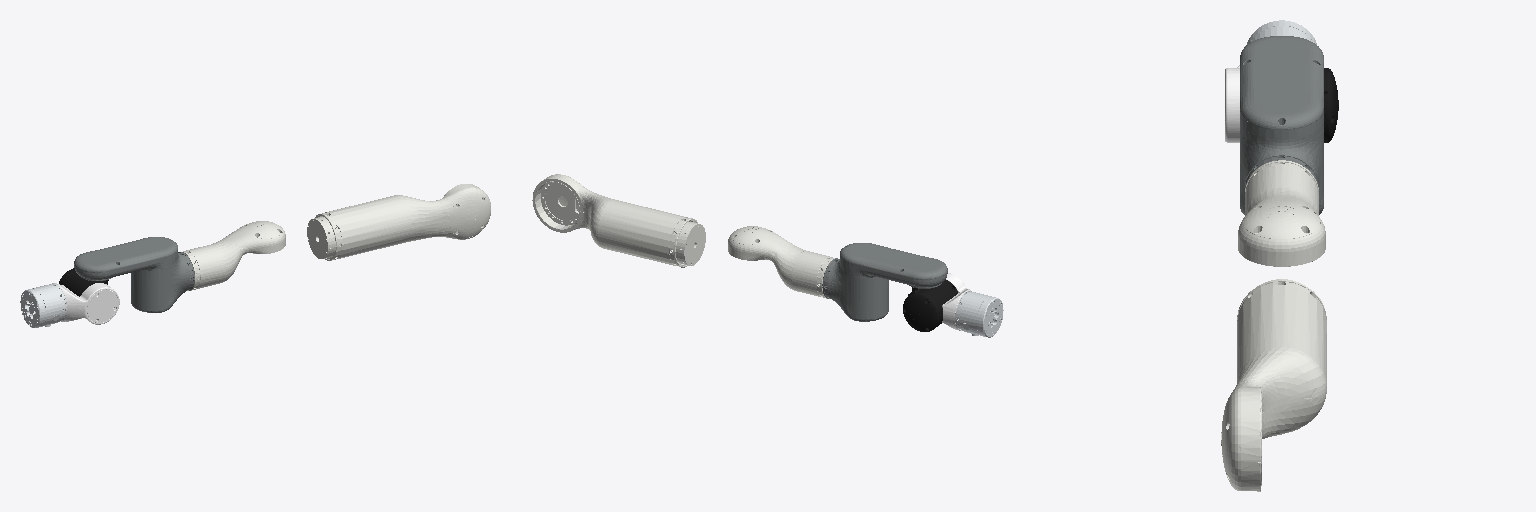
The robot description file, URDF, robot "RXR-6FB":
<?xml version="1.0" encoding="utf-8"?>
<!-- This URDF was automatically created by SolidWorks to URDF Exporter! Originally created by Stephen Brawner (brawner@gmail.com) 
     Commit Version: 1.6.0-4-g7f85cfe  Build Version: 1.6.7995.38578
     For more information, please see http://wiki.ros.org/sw_urdf_exporter -->
<robot
  name="RXR-6FB">
  <link
    name="base_link">
    <inertial>
      <origin
        xyz="-0.001567 0.000482 0.057387"
        rpy="0 0 0" />
      <mass
        value="1.360" />
      <inertia
        ixx="0.001538061"
        ixy="5.117e-06"
        ixz="-1.0816e-05"
        iyy="0.0015157"
        iyz="2.6121e-05"
        izz="0.001161949" />
    </inertial>
    <visual>
      <origin
        xyz="0 0 0"
        rpy="0 0 0" />
      <geometry>
        <mesh
          filename="package://rm_description/meshes/rm_rx75_arm/rm_rx75_right_arm/base_link.STL" />
      </geometry>
      <material
        name="">
        <color
          rgba="0.792156862745098 0.819607843137255 0.933333333333333 1" />
      </material>
    </visual>
    <collision>
      <origin
        xyz="0 0 0"
        rpy="0 0 0" />
      <geometry>
        <mesh
          filename="package://rm_description/meshes/rm_rx75_arm/rm_rx75_right_arm/base_link.STL" />
      </geometry>
    </collision>
  </link>
  <link
    name="Link1">
    <inertial>
      <origin
        xyz="1.8e-05 -0.01367 -0.0101"
        rpy="0 0 0" />
      <mass
        value="1.559" />
      <inertia
        ixx="0.002693824"
        ixy="-2.93e-07"
        ixz="2.442e-06"
        iyy="0.002324503"
        iyz="0.000193031"
        izz="0.001662437" />
    </inertial>
    <visual>
      <origin
        xyz="0 0 0"
        rpy="0 0 0" />
      <geometry>
        <mesh
          filename="package://rm_description/meshes/rm_rx75_arm/rm_rx75_right_arm/Link1.STL" />
      </geometry>
      <material
        name="">
        <color
          rgba="0.925490196078431 0.925490196078431 0.905882352941176 1" />
      </material>
    </visual>
    <collision>
      <origin
        xyz="0 0 0"
        rpy="0 0 0" />
      <geometry>
        <mesh
          filename="package://rm_description/meshes/rm_rx75_arm/rm_rx75_right_arm/Link1.STL" />
      </geometry>
    </collision>
  </link>
  <joint
    name="J1"
    type="revolute">
    <origin
      xyz="0 0 0.1915"
      rpy="0 0 0" />
    <parent
      link="base_link" />
    <child
      link="Link1" />
    <axis
      xyz="0 0 1" />
    <limit
      lower="-3.0194"
      upper="3.0194"
      effort="60"
      velocity="3.14" />
  </joint>
  <link
    name="Link2">
    <inertial>
      <origin
        xyz="-0.000196451722712666 0.149264015065473 0.00390445172268547"
        rpy="0 0 0" />
      <mass
        value="1.384" />
      <inertia
        ixx="0.00672698901175083"
        ixy="1.58904982968933e-06"
        ixz="-4.66624876221676e-06"
        iyy="0.0010281485024749"
        iyz="0.000750611770186407"
        izz="0.00667798848577427" />
    </inertial>
    <visual>
      <origin
        xyz="0 0 0"
        rpy="3.1415889803847 -1.34923183736646e-11 -3.67320509964131e-06" />
      <geometry>
        <mesh
          filename="package://rm_description/meshes/rm_rx75_arm/rm_rx75_right_arm/Link2.STL" />
      </geometry>
      <material
        name="">
        <color
          rgba="0.92549 0.92549 0.90588 1" />
      </material>
    </visual>
    <collision>
      <origin
        xyz="0 0 0"
        rpy="3.1415889803847 -1.34923183736646e-11 -3.67320509964131e-06" />
      <geometry>
        <mesh
          filename="package://rm_description/meshes/rm_rx75_arm/rm_rx75_right_arm/Link2.STL" />
      </geometry>
    </collision>
  </link>
  <joint
    name="J2"
    type="revolute">
    <origin
      xyz="0 0 0"
      rpy="-1.57079265353021 -1.57079265358979 3.14159265353021" />
    <parent
      link="Link1" />
    <child
      link="Link2" />
    <axis
      xyz="0 3.67320509661595e-06 0.999999999993254" />
    <limit
      lower="-3.1067"
      upper="0.6109"
      effort="60"
      velocity="3.14" />
  </joint>
  <link
    name="Link3">
    <inertial>
      <origin
        xyz="0.000153958709711768 -0.0156520412903928 0.0112409430725158"
        rpy="0 0 0" />
      <mass
        value="1.117" />
      <inertia
        ixx="0.00175636000295002"
        ixy="4.25741288365422e-06"
        ixz="-4.00133486477096e-07"
        iyy="0.0014680968228134"
        iyz="-0.000112001192338527"
        izz="0.000980232174236586" />
    </inertial>
    <visual>
      <origin
        xyz="0 0 0"
        rpy="3.1415889803847 3.67320509675473e-06 -3.14159265358979" />
      <geometry>
        <mesh
          filename="package://rm_description/meshes/rm_rx75_arm/rm_rx75_right_arm/Link3.STL" />
      </geometry>
      <material
        name="">
        <color
          rgba="0.925490196078431 0.925490196078431 0.905882352941176 1" />
      </material>
    </visual>
    <collision>
      <origin
        xyz="0 0 0"
        rpy="3.1415889803847 3.67320509675473e-06 -3.14159265358979" />
      <geometry>
        <mesh
          filename="package://rm_description/meshes/rm_rx75_arm/rm_rx75_right_arm/Link3.STL" />
      </geometry>
    </collision>
  </link>
  <joint
    name="J3"
    type="revolute">
    <origin
      xyz="1.18277204211131e-06 0.321999999995655 -1.18277204108352e-06"
      rpy="1.5707963267949 1.5707963267949 0" />
    <parent
      link="Link2" />
    <child
      link="Link3" />
    <axis
      xyz="-3.67320509653267e-06 -3.67320509250814e-06 0.999999999986507" />
    <limit
      lower="-3.0194"
      upper="3.0194"
      effort="30"
      velocity="3.925" />
  </joint>
  <link
    name="Link4">
    <inertial>
      <origin
        xyz="3.17868089891588e-07 -0.0865369837963248 -0.00441131786811871"
        rpy="0 0 0" />
      <mass
        value="0.665" />
      <inertia
        ixx="0.00120941599916537"
        ixy="1.15222126355507e-07"
        ixz="-7.75367499186827e-09"
        iyy="0.000332225492650261"
        iyz="0.000205293843090025"
        izz="0.00119166250818437" />
    </inertial>
    <visual>
      <origin
        xyz="0 0 0"
        rpy="-3.67320508520841e-06 0 -3.1415889803847" />
      <geometry>
        <mesh
          filename="package://rm_description/meshes/rm_rx75_arm/rm_rx75_right_arm/Link4.STL" />
      </geometry>
      <material
        name="">
        <color
          rgba="0.925490196078431 0.925490196078431 0.905882352941176 1" />
      </material>
    </visual>
    <collision>
      <origin
        xyz="0 0 0"
        rpy="-3.67320508520841e-06 0 -3.1415889803847" />
      <geometry>
        <mesh
          filename="package://rm_description/meshes/rm_rx75_arm/rm_rx75_right_arm/Link4.STL" />
      </geometry>
    </collision>
  </link>
  <joint
    name="J4"
    type="revolute">
    <origin
      xyz="0 0 0"
      rpy="1.5707963267949 0 0" />
    <parent
      link="Link3" />
    <child
      link="Link4" />
    <axis
      xyz="1.34996735616453e-11 -3.6732050852084e-06 0.999999999993254" />
    <limit
      lower="-2.2689"
      upper="0.2618"
      effort="30"
      velocity="3.925" />
  </joint>
  <link
    name="Link5">
    <inertial>
      <origin
        xyz="-2.96159706289828e-07 0.0147387038403936 0.080627054138282"
        rpy="0 0 0" />
      <mass
        value="1.13" />
      <inertia
        ixx="0.00234306899987292"
        ixy="-4.96297683894518e-08"
        ixz="1.95964568946707e-08"
        iyy="0.00193437374058478"
        iyz="0.000443676095244364"
        izz="0.0010916732595423" />
    </inertial>
    <visual>
      <origin
        xyz="0 0 0"
        rpy="3.1415889803847 3.67320509675473e-06 -3.14159265358979" />
      <geometry>
        <mesh
          filename="package://rm_description/meshes/rm_rx75_arm/rm_rx75_right_arm/Link5.STL" />
      </geometry>
      <material
        name="">
        <color
          rgba="0.529411764705882 0.549019607843137 0.549019607843137 1" />
      </material>
    </visual>
    <collision>
      <origin
        xyz="0 0 0"
        rpy="3.1415889803847 3.67320509675473e-06 -3.14159265358979" />
      <geometry>
        <mesh
          filename="package://rm_description/meshes/rm_rx75_arm/rm_rx75_right_arm/Link5.STL" />
      </geometry>
    </collision>
  </link>
  <joint
    name="J5"
    type="revolute">
    <origin
      xyz="1.01196800409475e-06 -0.275499999996283 -1.01196800099786e-06"
      rpy="-1.5707963267949 0 0" />
    <parent
      link="Link4" />
    <child
      link="Link5" />
    <axis
      xyz="-3.67320509653267e-06 -3.67320509250814e-06 0.999999999986507" />
    <limit
      lower="-3.0194"
      upper="3.0194"
      effort="10"
      velocity="3.925" />
  </joint>
  <link
    name="Link6">
    <inertial>
      <origin
        xyz="-0.0139079918159114 0.00101694891310044 -0.00324505108691453"
        rpy="0 0 0" />
      <mass
        value="0.559" />
      <inertia
        ixx="0.000354167794299041"
        ixy="3.91245306897725e-07"
        ixz="2.76091558274431e-05"
        iyy="0.000288127002873357"
        iyz="-7.41897149684918e-07"
        izz="0.000312487202827601" />
    </inertial>
    <visual>
      <origin
        xyz="0 0 0"
        rpy="0 3.67320509253588e-06 -3.1415889803847" />
      <geometry>
        <mesh
          filename="package://rm_description/meshes/rm_rx75_arm/rm_rx75_right_arm/Link6.STL" />
      </geometry>
      <material
        name="">
        <color
          rgba="0.156862745098039 0.156862745098039 0.156862745098039 1" />
      </material>
    </visual>
    <collision>
      <origin
        xyz="0 0 0"
        rpy="0 3.67320509253588e-06 -3.1415889803847" />
      <geometry>
        <mesh
          filename="package://rm_description/meshes/rm_rx75_arm/rm_rx75_right_arm/Link6.STL" />
      </geometry>
    </collision>
  </link>
  <joint
    name="J6"
    type="revolute">
    <origin
      xyz="0 0 0"
      rpy="1.5707963267949 -1.5707963267949 0" />
    <parent
      link="Link5" />
    <child
      link="Link6" />
    <axis
      xyz="-3.67320509231384e-06 -1.34924571117814e-11 0.999999999993254" />
    <limit
      lower="-0.9599"
      upper="0.9599"
      effort="10"
      velocity="3.925" />
  </joint>
  <link
    name="Link7">
    <inertial>
      <origin
        xyz="0.0200087823913553 -0.0709997953168756 -0.00430173920375893"
        rpy="0 0 0" />
      <mass
        value="0.483" />
      <inertia
        ixx="0.00081099257467996"
        ixy="0.000155417077740399"
        ixz="-4.23760300164903e-05"
        iyy="0.00115280639809581"
        iyz="0.000132416324514676"
        izz="0.00164051902722423" />
    </inertial>
    <visual>
      <origin
        xyz="0 0 0"
        rpy="3.1415889803847 6.74620359575329e-11 1.10196152989239e-05" />
      <geometry>
        <mesh
          filename="package://rm_description/meshes/rm_rx75_arm/rm_rx75_right_arm/Link7.STL" />
      </geometry>
      <material
        name="">
        <color
          rgba="1 1 1 1" />
      </material>
    </visual>
    <collision>
      <origin
        xyz="0 0 0"
        rpy="3.1415889803847 6.74620359575329e-11 1.10196152989239e-05" />
      <geometry>
        <mesh
          filename="package://rm_description/meshes/rm_rx75_arm/rm_rx75_right_arm/Link7.STL" />
      </geometry>
    </collision>
  </link>
  <joint
    name="J7"
    type="revolute">
    <origin
      xyz="-0.0154999999997909 -5.69346789962566e-08 -5.69346789321551e-08"
      rpy="-1.57079265342442 1.57079265358979 -3.14159265342442" />
    <parent
      link="Link6" />
    <child
      link="Link7" />
    <axis
      xyz="2.6984781868816e-11 3.67320509687268e-06 0.999999999993253" />
    <limit
      lower="-0.6109"
      upper="1.9024"
      effort="10"
      velocity="3.925" />
  </joint>
  <link
    name="Link8">
    <inertial>
      <origin
        xyz="-0.000223514521197399 8.83640631490895E-05 -0.0171573985138972"
        rpy="0 0 0" />
      <mass
        value="0.165822947667674" />
      <inertia
        ixx="4.8848746976957E-05"
        ixy="-9.45914855107049E-08"
        ixz="3.06193382564701E-07"
        iyy="4.94605021339589E-05"
        iyz="8.02677028552643E-09"
        izz="7.69017076313119E-05" />
    </inertial>
    <visual>
      <origin
        xyz="0 0 0"
        rpy="3.1415853071796 -1.10196152987019e-05 6.74620359575329e-11" />
      <geometry>
        <mesh
          filename="package://rm_description/meshes/rm_rx75_arm/rm_rx75_right_arm/Link8.STL" />
      </geometry>
      <material
        name="">
        <color
          rgba="0.898039215686275 0.917647058823529 0.929411764705882 1" />
      </material>
    </visual>
    <collision>
      <origin
        xyz="0 0 0"
        rpy="3.1415853071796 -1.10196152987019e-05 6.74620359575329e-11" />
      <geometry>
        <mesh
          filename="package://rm_description/meshes/rm_rx75_arm/rm_rx75_right_arm/Link8.STL" />
      </geometry>
    </collision>
  </link>
  <joint
    name="J8"
    type="revolute">
    <origin
      xyz="1.06008699174037e-06 -0.0961999999935101 3.53362330252211e-07"
      rpy="-1.5707963267949 0 0" />
    <parent
      link="Link7" />
    <child
      link="Link8" />
    <axis
      xyz="0 0 1" />
    <limit
      lower="0"
      upper="0"
      effort="0"
      velocity="0" />
  </joint>
</robot>

--- What the picture shows (computed from the rendered views, not written in the file) ---
Views: 3 orthographic renders of the robot side by side, from view 1: azimuth 30°, elevation 25°; view 2: azimuth 150°, elevation 25°; view 3: azimuth 270°, elevation 25°.
Model RXR-6FB with 9 links and 8 joints (8 revolute), rooted at base_link, posed every joint at zero.
Visible links, largest first — view 1: Link2, Link5, Link4, Link7, Link8, Link6; view 2: Link2, Link5, Link4, Link8, Link6, Link7; view 3: Link2, Link5, Link4, Link7, Link6, Link8.
Boxes of the visible links, x1,y1,x2,y2 form: Link2: [307, 184, 490, 260]; Link5: [74, 237, 194, 312]; Link4: [183, 221, 285, 290]; Link7: [55, 283, 119, 324]; Link8: [20, 283, 66, 327]; Link6: [59, 268, 108, 296]; Link2: [532, 174, 705, 267]; Link5: [822, 243, 947, 321]; Link4: [728, 226, 834, 298]; Link8: [955, 291, 1003, 337]; Link6: [903, 279, 957, 331]; Link7: [942, 273, 970, 330]; Link2: [1221, 279, 1326, 491]; Link5: [1240, 36, 1323, 214]; Link4: [1238, 160, 1325, 266]; Link7: [1225, 65, 1239, 142]; Link6: [1324, 68, 1338, 142]; Link8: [1247, 20, 1316, 44].
Size in the robot's own frame: 0.7497 by 0.091 by 0.0981 metres.
Meshes: 9 distinct files referenced, 6 mesh visuals loaded (6 binary STL); not drawn: 3 (reference not matched to a file when rendering).
